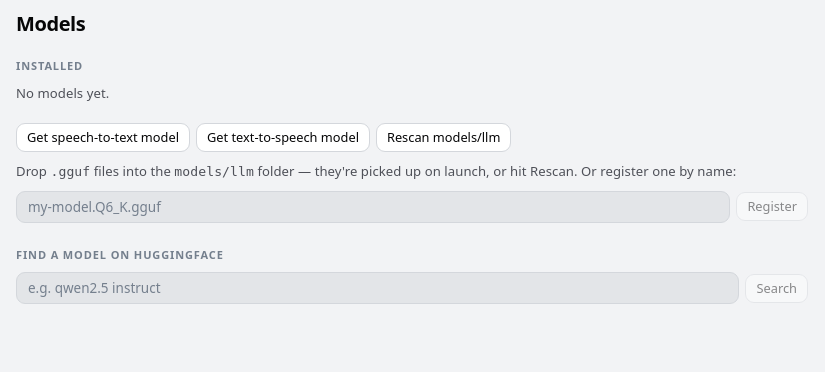
Test: Models page › registers a local GGUF by filename
The width and height of the screenshot is (825, 372).
In the field named "Local GGUF filename": (373, 206) [16,190,730,222], type "mythomax-l2-13b.Q6_K.gguf"
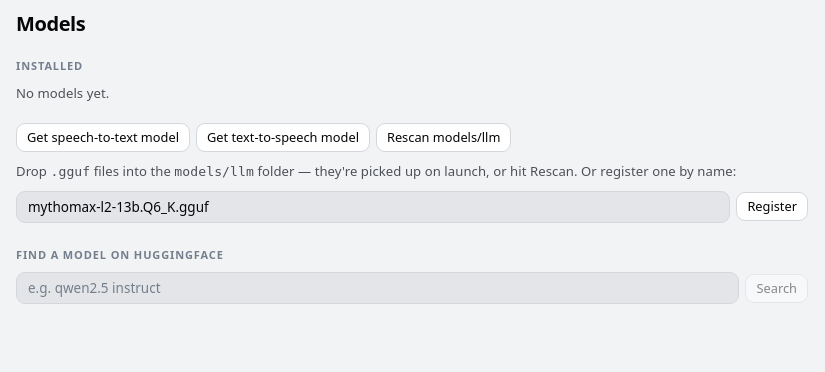
Click the button "Register": (772, 207) [736,192,808,221]
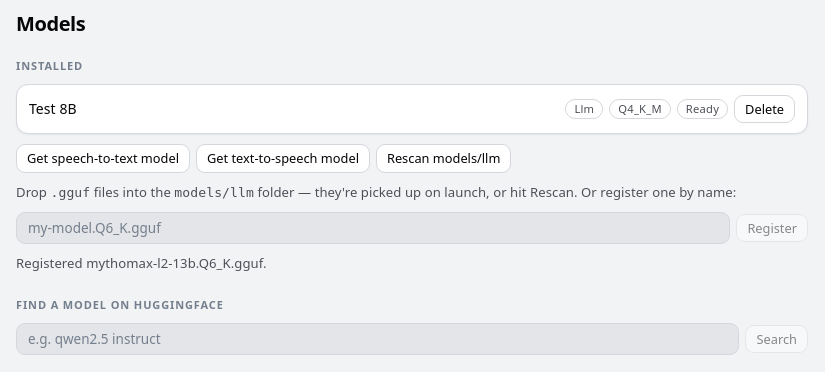
Now the text "Registered mythomax-l2-13b.Q6_K.gguf." is shown, box [16,254,267,272]
